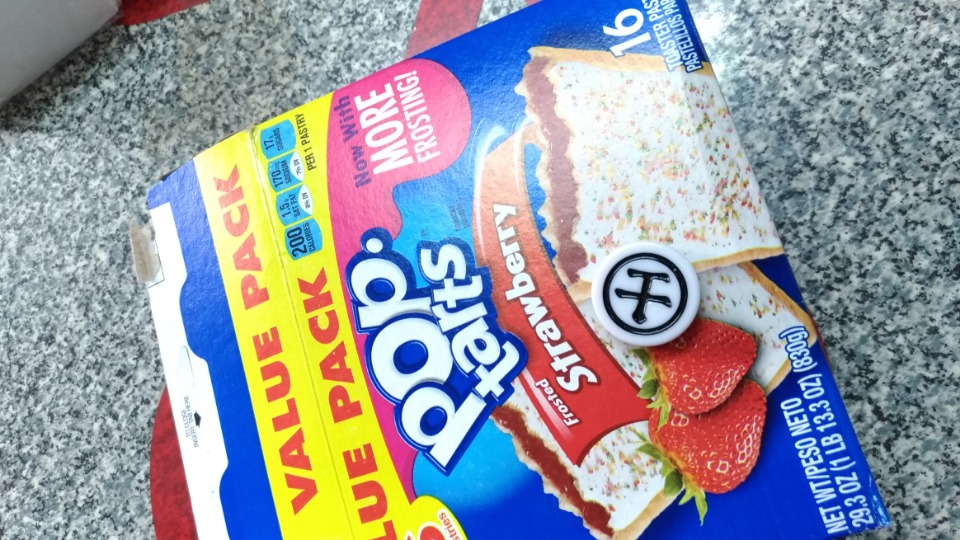b-advisor: (556, 235, 731, 359)
